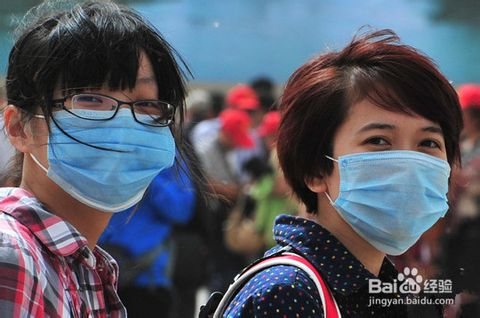yes_mask: (277, 31, 452, 258), (3, 6, 177, 213)
